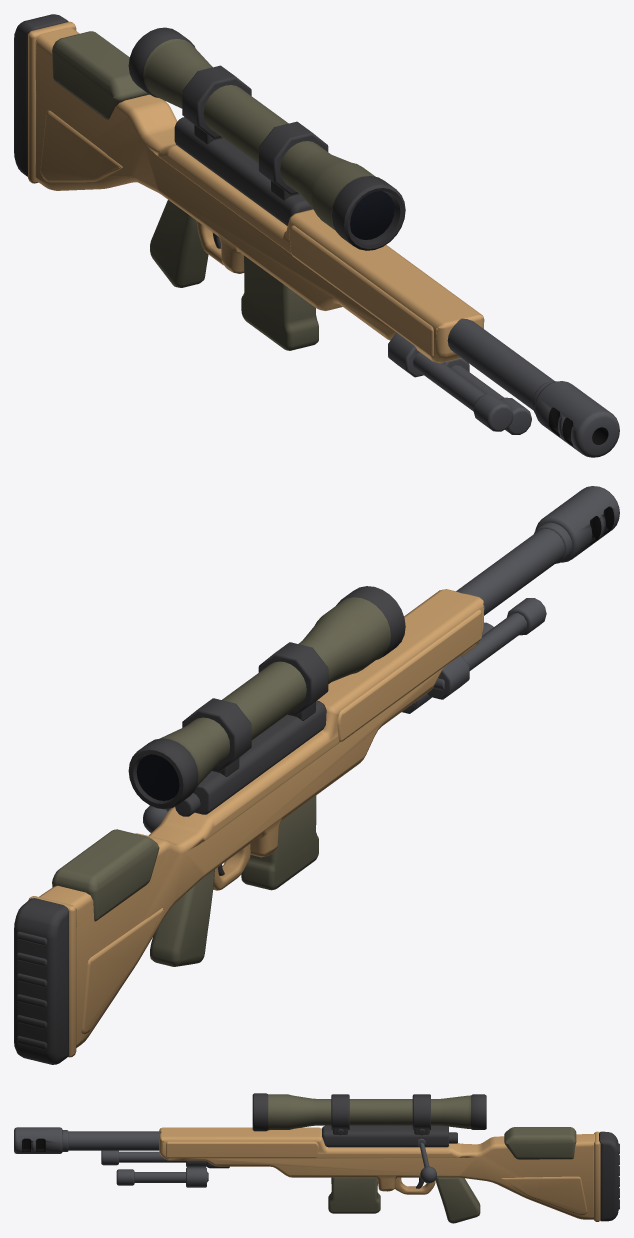
The model's file is sniper_rifle.glb.
3 renders of one model, top to bottom at view 1: azimuth 30°, elevation 25°; view 2: azimuth 150°, elevation 25°; view 3: azimuth 270°, elevation 25°, orthographic. The views are drawn at different scales.
Visible parts, largest first — view 1: stock_and_body, scope, barrel_and_muzzle_brake, cheek_rest, magazine, scope_mounts, bipod_right, grip, bipod_left; view 2: stock_and_body, scope, barrel_and_muzzle_brake, cheek_rest, scope_mounts, grip, magazine, bipod_right; view 3: stock_and_body, scope, barrel_and_muzzle_brake, cheek_rest, magazine, scope_mounts, grip, bipod_left, bipod_right, bolt_handle.
Boxes of the visible parts, x1,y1,x2,y2 form: stock_and_body: (14,14,484,363); scope: (128,27,405,250); barrel_and_muzzle_brake: (447,318,619,457); cheek_rest: (52,31,149,119); magazine: (241,255,318,350); scope_mounts: (182,65,328,200); bipod_right: (388,333,513,431); grip: (150,200,208,287); bipod_left: (443,358,531,434); stock_and_body: (14,589,484,1064); scope: (128,586,405,809); barrel_and_muzzle_brake: (456,486,619,615); cheek_rest: (52,829,159,921); scope_mounts: (182,642,328,776); grip: (150,869,214,966); magazine: (241,795,318,890); bipod_right: (427,598,546,699); stock_and_body: (159,1125,619,1221); scope: (252,1093,486,1131); barrel_and_muzzle_brake: (14,1127,161,1153); cheek_rest: (504,1127,576,1159); magazine: (328,1177,380,1213); scope_mounts: (331,1094,430,1135); grip: (435,1177,480,1223); bipod_left: (116,1167,208,1187); bipod_right: (101,1150,206,1167); bolt_handle: (417,1138,436,1183).
Bounding box in the file's own units: 0.1234 × 0.2876 × 1.25.
